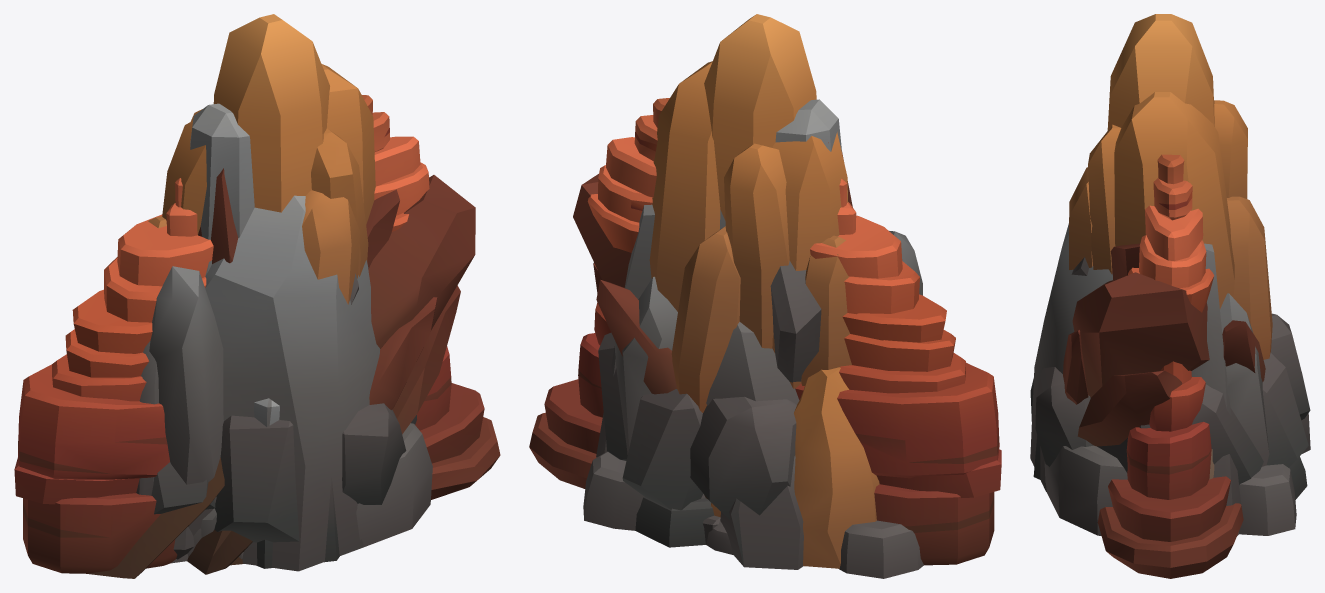
File: RockPack.fbx
3 views of the same model, side by side, from view 1: azimuth 30°, elevation 25°; view 2: azimuth 150°, elevation 25°; view 3: azimuth 270°, elevation 25° (orthographic). The views are drawn at different scales.
Visible parts, largest first — view 1: model_0.002, model_0.080, model_0.033, model_0.027, model_0.057, model_0.088, model_0.050, model_0.068, model_0.095; view 2: model_0.002, model_0.033, model_0.057, model_0.045, model_0.080, model_0.050, model_0.027, model_0.042, model_0.088, model_0.068; view 3: model_0.033, model_0.002, model_0.027, model_0.057, model_0.050, model_0.080, model_0.088, model_0.068.
Part boxes in pixels (<box>): model_0.002: <box>14,95,500,573</box>; model_0.080: <box>149,195,380,571</box>; model_0.033: <box>148,14,375,304</box>; model_0.027: <box>88,175,475,578</box>; model_0.057: <box>151,403,416,542</box>; model_0.088: <box>136,103,254,559</box>; model_0.050: <box>171,423,432,563</box>; model_0.068: <box>254,398,339,568</box>; model_0.095: <box>198,168,238,263</box>; model_0.002: <box>529,98,1001,565</box>; model_0.033: <box>649,14,851,412</box>; model_0.057: <box>598,322,799,519</box>; model_0.045: <box>711,367,879,568</box>; model_0.080: <box>615,231,922,569</box>; model_0.050: <box>583,451,923,578</box>; model_0.027: <box>573,174,707,498</box>; model_0.042: <box>770,261,821,382</box>; model_0.088: <box>596,99,842,457</box>; model_0.068: <box>635,497,714,547</box>; model_0.033: <box>1069,14,1272,359</box>; model_0.002: <box>1097,154,1243,578</box>; model_0.027: <box>1063,243,1265,446</box>; model_0.057: <box>1030,313,1310,484</box>; model_0.050: <box>1044,445,1296,535</box>; model_0.080: <box>1030,223,1310,491</box>; model_0.088: <box>1191,243,1241,505</box>; model_0.068: <box>1033,397,1307,499</box>.
Size of the model in its own units: 544 by 532 by 293.
1 material, 1 textured.
